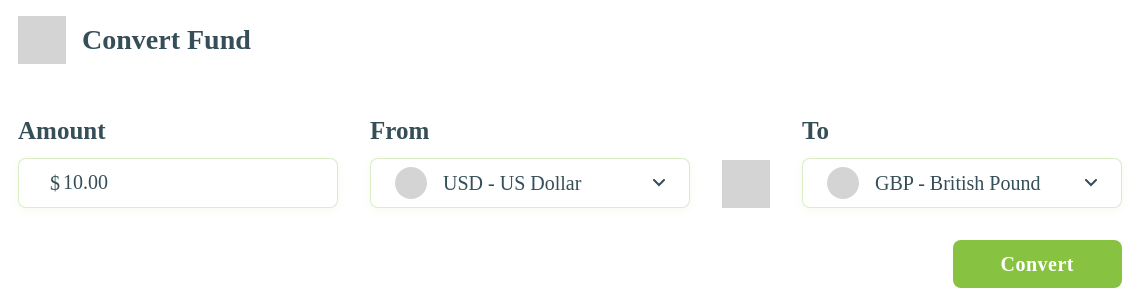
Test case: Converter Component › Amount Input › should allow user to enter amount
Clear and type new amount
In the number field labelled "Amount": (178, 182) [18,158,338,208], type "100.50"
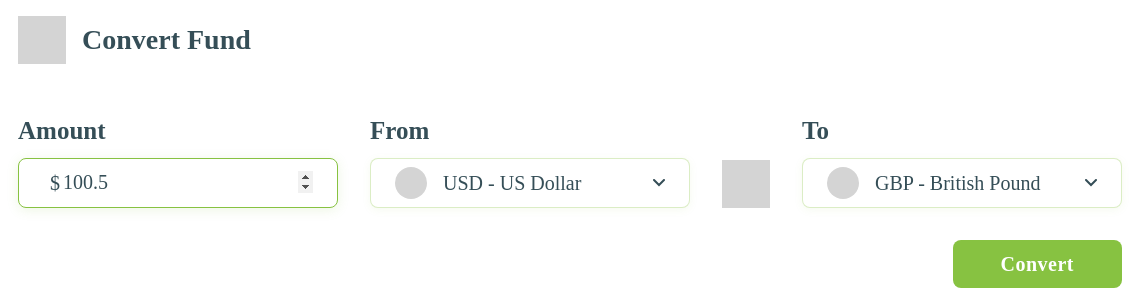
Expected: the number field labelled "Amount" holds "100.5", [18,158,338,208]
